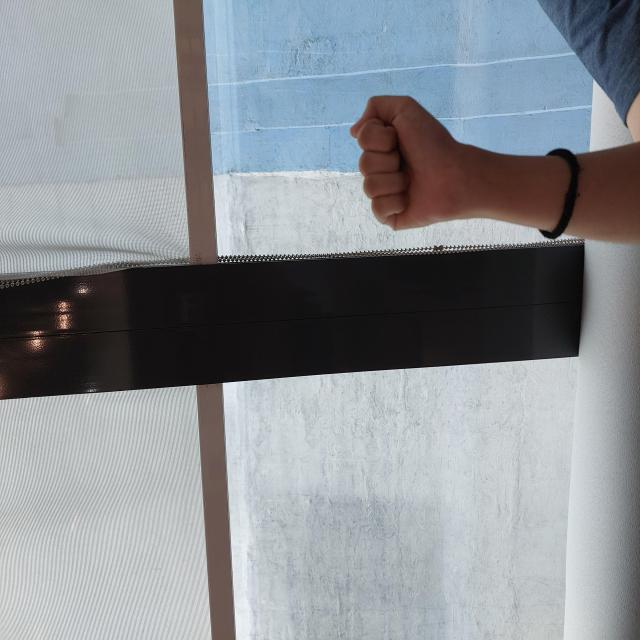A: (403, 348, 548, 456)
